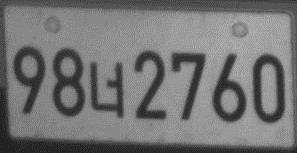0: (252, 52, 286, 123)
2: (133, 49, 167, 120)
6: (211, 51, 247, 123)
7: (170, 51, 206, 120)
8: (51, 47, 85, 117)
9: (13, 46, 45, 114)
너: (88, 61, 125, 119)
